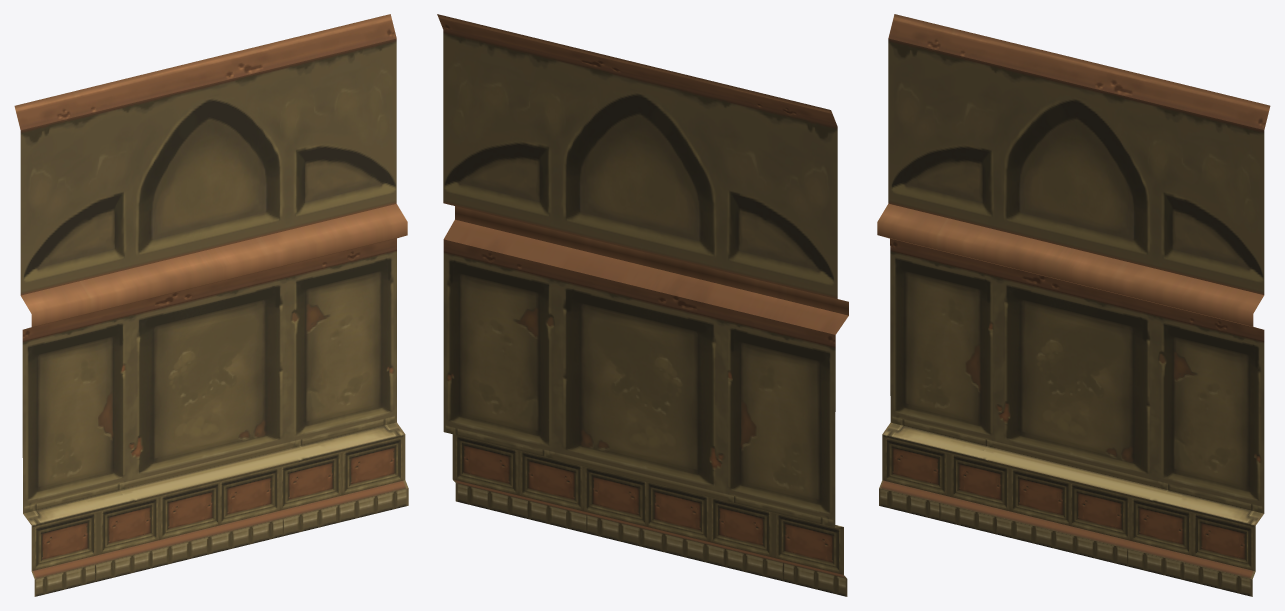
File: wall big 5.FBX
3 renders of one model, left to right at view 1: azimuth 30°, elevation 25°; view 2: azimuth 150°, elevation 25°; view 3: azimuth 330°, elevation 25°, orthographic. The views are drawn at different scales.
Parts seen in each view (by area): view 1: wall big 5; view 2: wall big 5; view 3: wall big 5.
Part boxes in pixels (<box>): wall big 5: <box>14,14,408,596</box>; wall big 5: <box>437,14,848,596</box>; wall big 5: <box>877,14,1270,596</box>.
Bounding box in the file's own units: 814 × 989 × 67.
